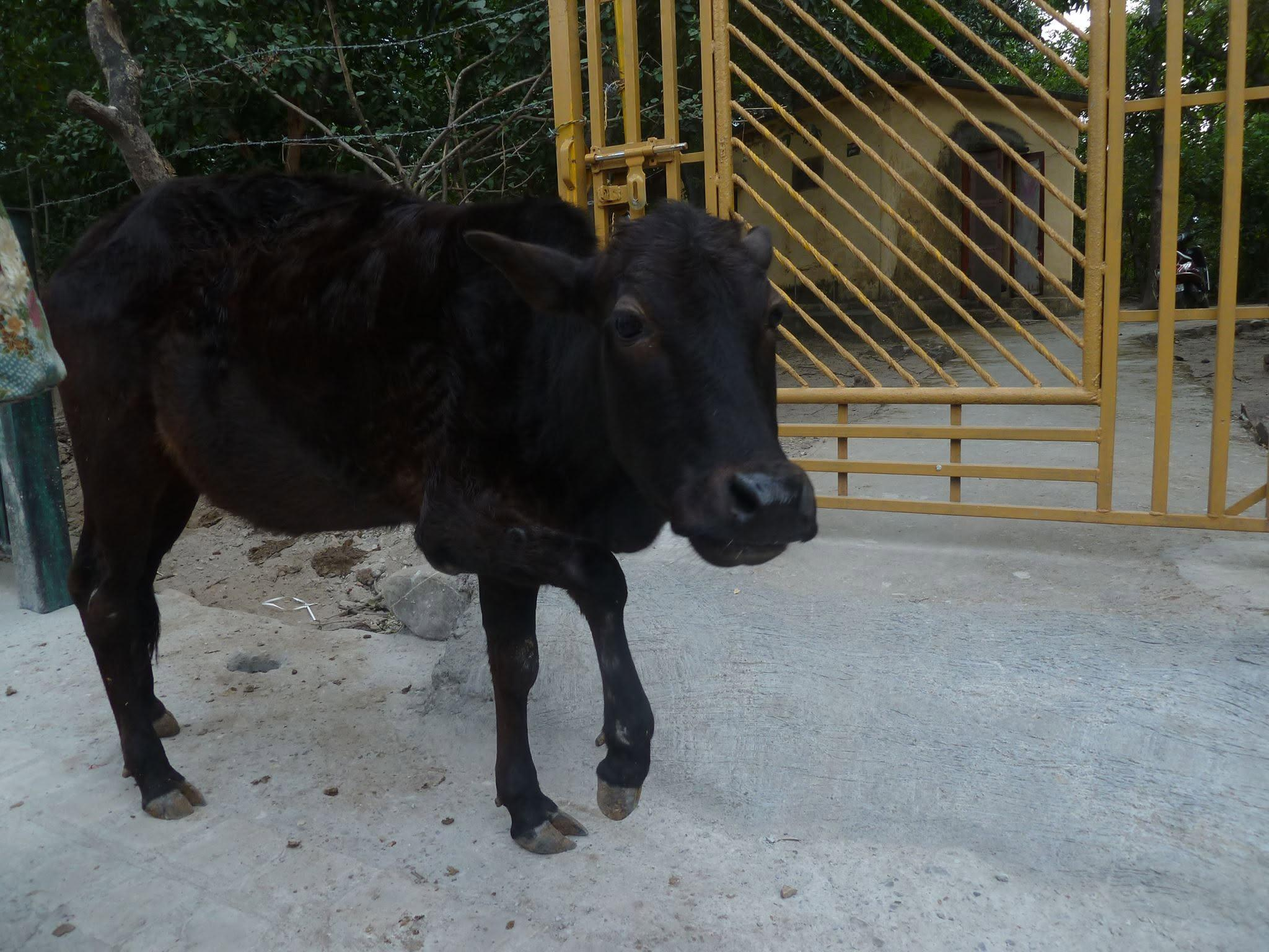fracture: (413, 478, 713, 833)
